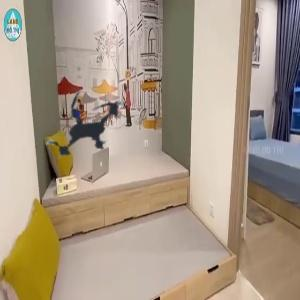drone: (11, 53, 165, 207)
